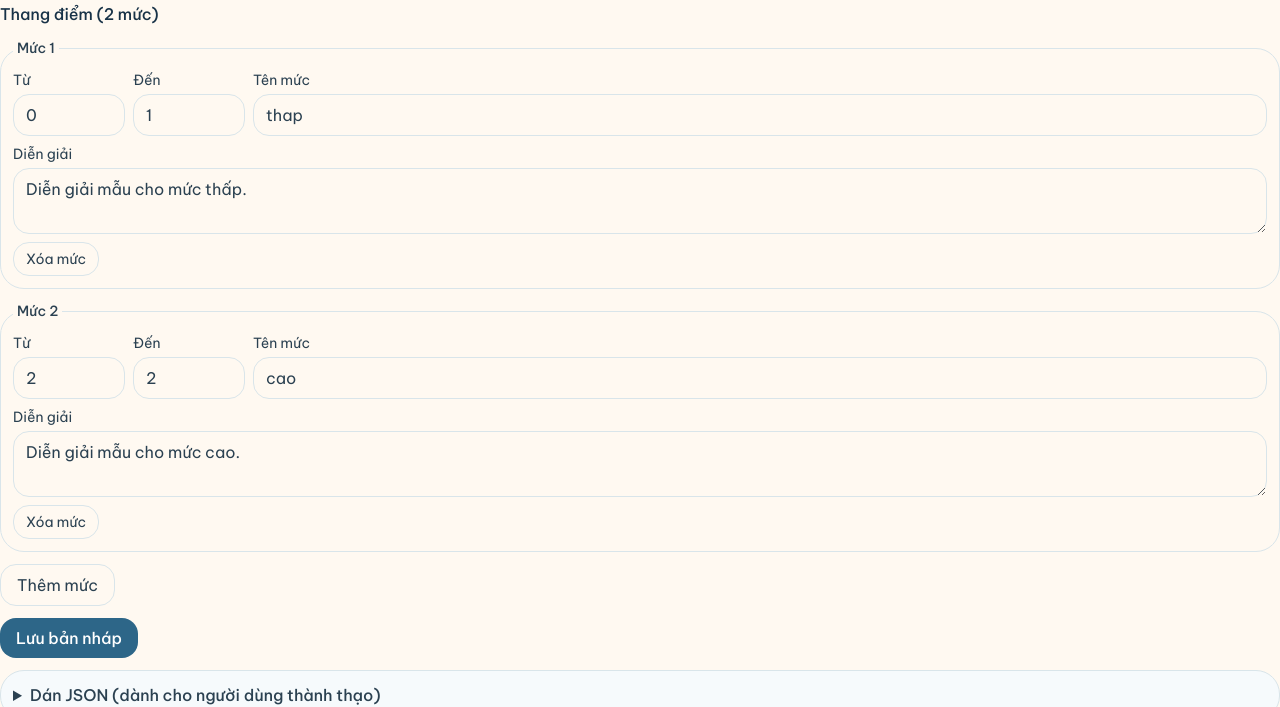
Test: TestEditor › lưu bản nháp thành công: hiện thông báo và tải lại danh sách
This screenshot has width=1280, height=707.
(page scrolled)
Click the button "Lưu bản nháp".
click(69, 638)  # box [0,618,138,658]
(page scrolled)
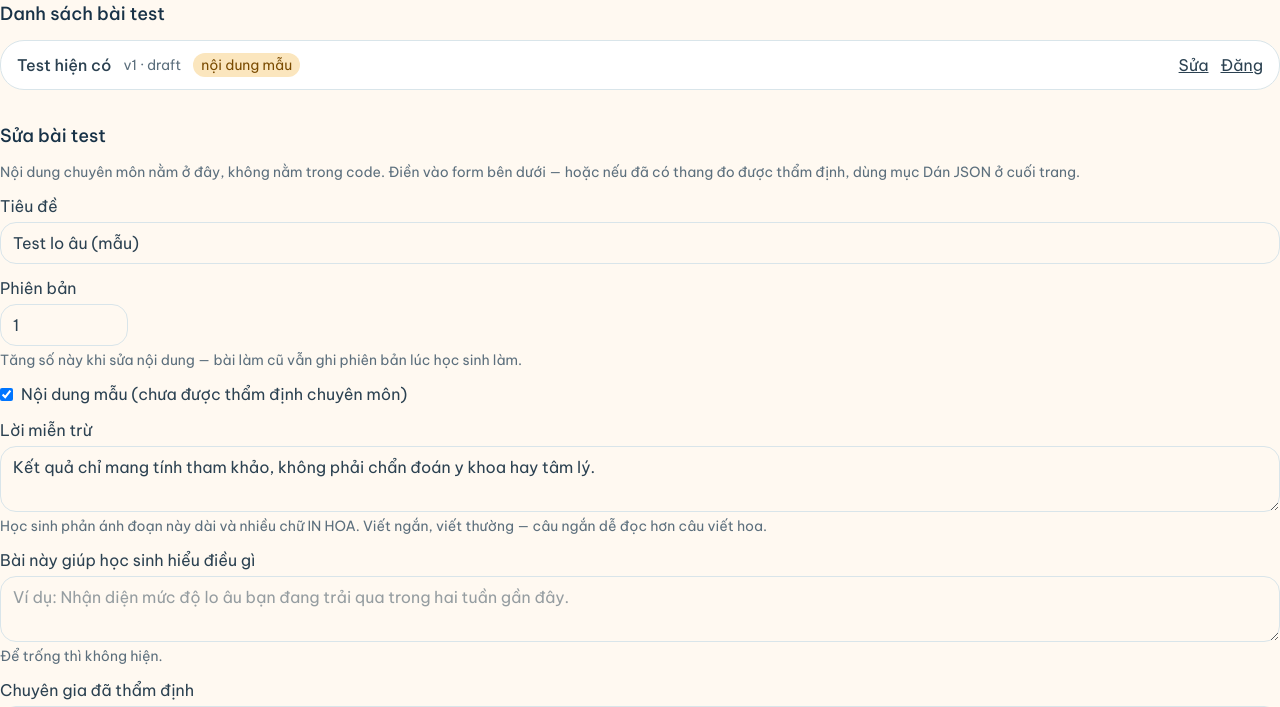
Expected: the text "Test hiện có" is shown, [17,53,111,77]
